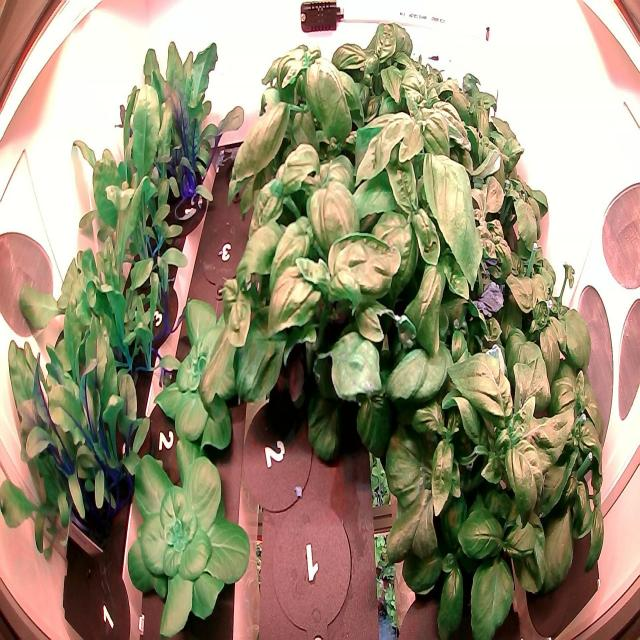empty_pod: (265, 491, 360, 639), (194, 205, 255, 299)
young: (121, 430, 255, 640), (152, 294, 245, 455)
